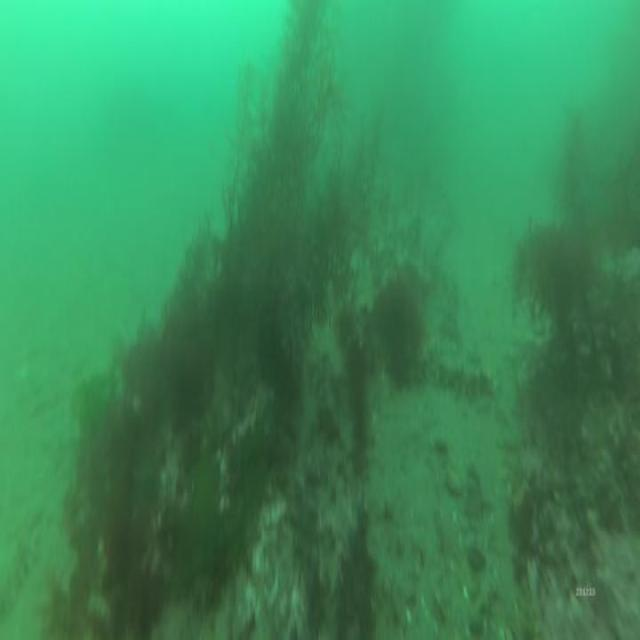holothurian: (428, 344, 494, 408)
waterweeds: (71, 6, 373, 640), (513, 77, 640, 578)
